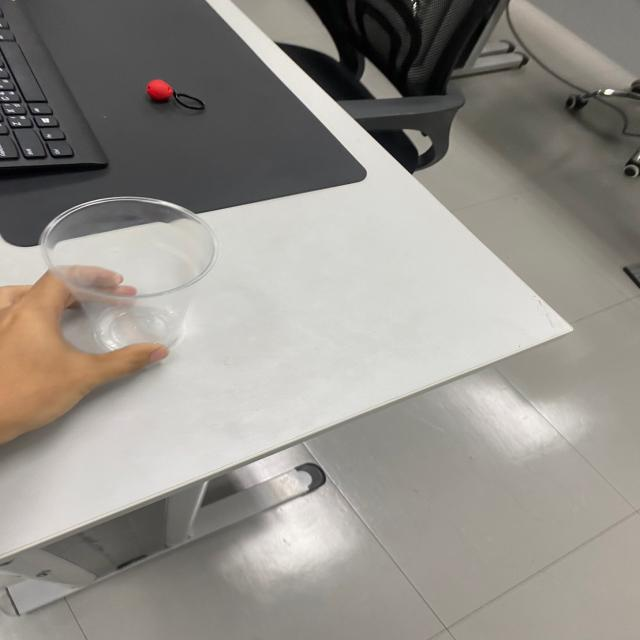glass: (31, 187, 222, 370)
